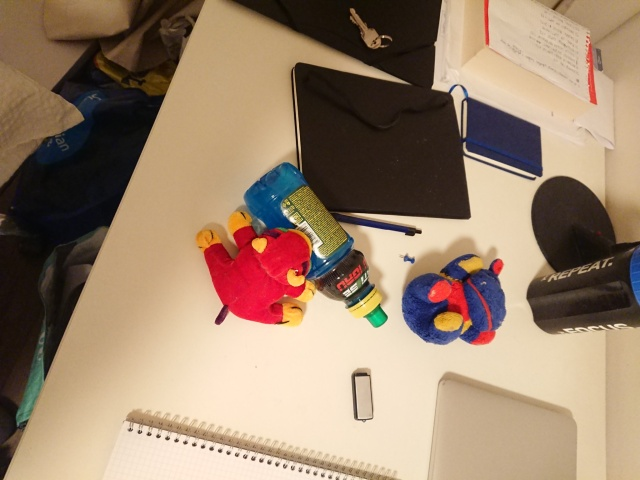Vindi Iso Sport Forest Strawberries 500mL: (242, 160, 388, 329)
